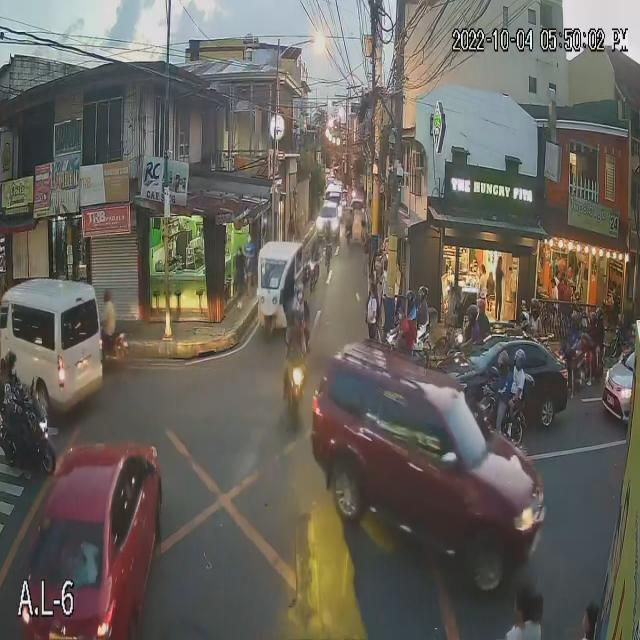helmet: (1, 345, 20, 374), (514, 346, 528, 374), (515, 307, 531, 330), (290, 312, 303, 339), (496, 349, 510, 373), (475, 299, 492, 318), (465, 301, 480, 320), (569, 312, 584, 330), (294, 282, 308, 299), (530, 298, 543, 316), (587, 309, 599, 328), (402, 288, 417, 303), (417, 285, 429, 303), (594, 304, 604, 323)
motorcycle: (0, 395, 57, 478), (272, 349, 312, 423), (473, 397, 528, 439), (382, 317, 437, 359), (558, 341, 600, 381)
rider: (0, 341, 27, 418), (283, 312, 312, 374), (507, 344, 530, 405), (562, 308, 585, 354), (470, 293, 494, 334), (494, 347, 508, 410), (414, 283, 432, 323), (589, 301, 608, 333), (515, 308, 532, 342), (295, 282, 308, 321), (403, 289, 416, 328), (466, 305, 479, 341), (529, 290, 540, 328), (586, 308, 598, 339)
